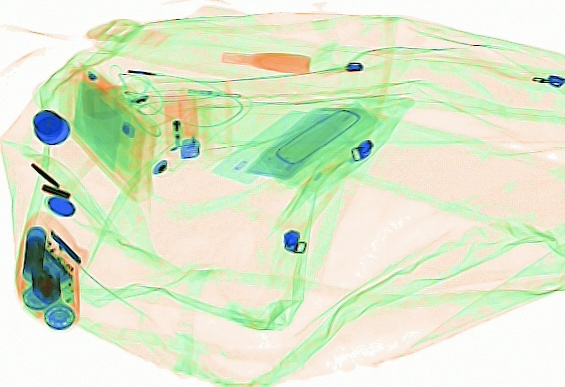lighter: (162, 88, 201, 161)
